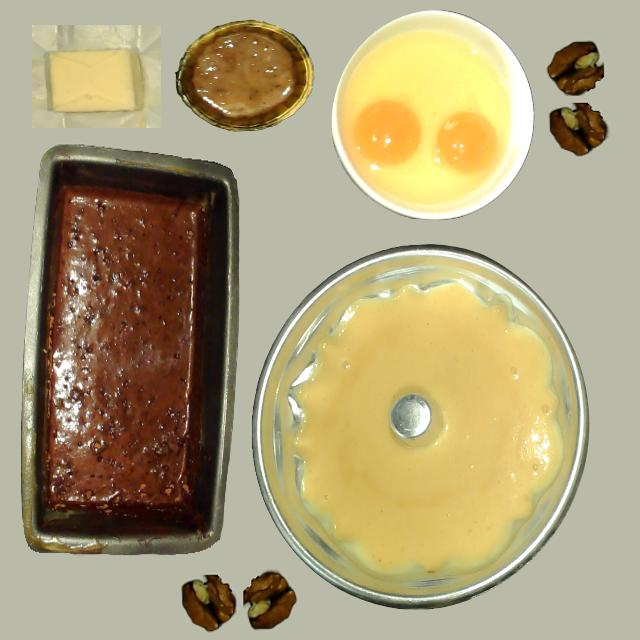Egg: (354, 100, 420, 167), (436, 112, 496, 173)
